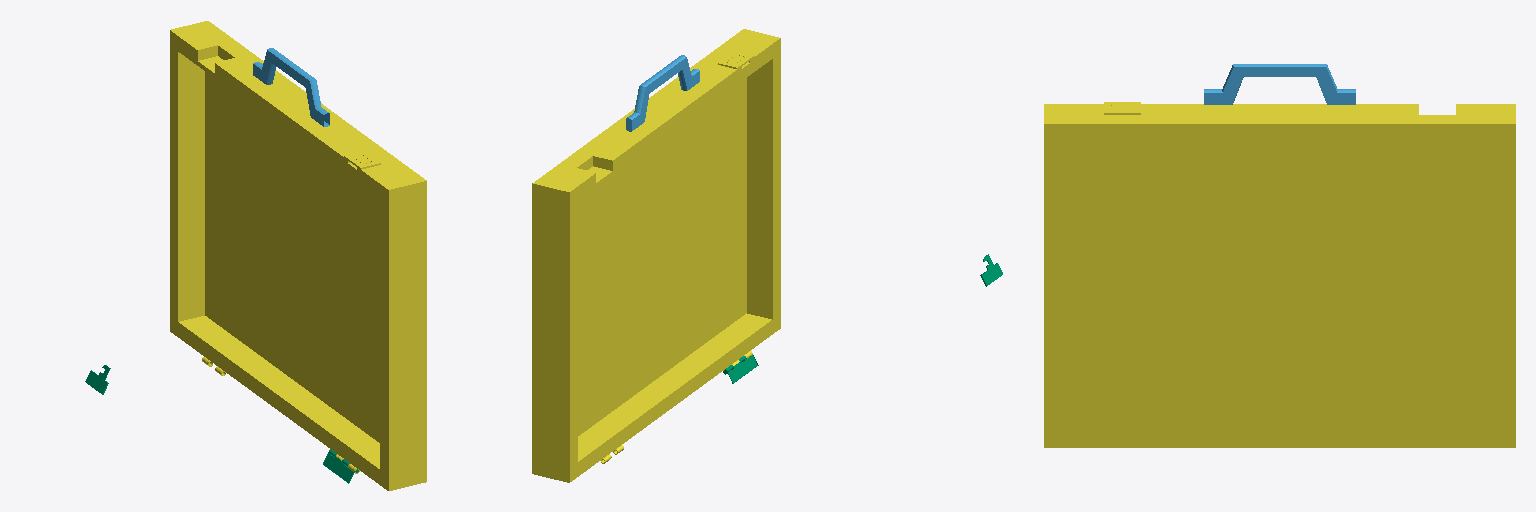
The robot description file, URDF, robot "partnet_6eee2279c193892a8c80080da8fd52c9-0":
<?xml version="1.0" ?>
<robot name="partnet_6eee2279c193892a8c80080da8fd52c9-0">
	<link name="base"/>
	<link name="link_0">
		<visual name="handle-1">
			<origin xyz="-0.0 -0.6825442001423 0.2305115"/>
			<geometry>
				<mesh filename="textured_objs/original-15.obj"/>
			</geometry>
		</visual>
		<collision>
			<origin xyz="-0.0 -0.6825442001423 0.2305115"/>
			<geometry>
				<mesh filename="textured_objs/original-15.obj"/>
			</geometry>
		</collision>
	</link>
	<joint name="joint_0" type="fixed">
		<origin xyz="0.0 0.6825442001423 -0.2305115"/>
		<axis xyz="1.0 -0.0 -0.0"/>
		<child link="link_0"/>
		<parent link="link_2"/>
		<limit lower="-1.5707963267948966" upper="1.5707963267948966"/>
	</joint>
	<link name="link_1">
		<visual name="lid-2">
			<origin xyz="0.5184230000000003 0.3859001428774595 0.19629768005433929"/>
			<geometry>
				<mesh filename="textured_objs/original-2.obj"/>
			</geometry>
		</visual>
		<visual name="lid-2">
			<origin xyz="0.5184230000000003 0.3859001428774595 0.19629768005433929"/>
			<geometry>
				<mesh filename="textured_objs/original-6.obj"/>
			</geometry>
		</visual>
		<visual name="lid-2">
			<origin xyz="0.5184230000000003 0.3859001428774595 0.19629768005433929"/>
			<geometry>
				<mesh filename="textured_objs/original-7.obj"/>
			</geometry>
		</visual>
		<visual name="lid-2">
			<origin xyz="0.5184230000000003 0.3859001428774595 0.19629768005433929"/>
			<geometry>
				<mesh filename="textured_objs/original-4.obj"/>
			</geometry>
		</visual>
		<visual name="lid-2">
			<origin xyz="0.5184230000000003 0.3859001428774595 0.19629768005433929"/>
			<geometry>
				<mesh filename="textured_objs/original-5.obj"/>
			</geometry>
		</visual>
		<collision>
			<origin xyz="0.5184230000000003 0.3859001428774595 0.19629768005433929"/>
			<geometry>
				<mesh filename="textured_objs/original-2.obj"/>
			</geometry>
		</collision>
		<collision>
			<origin xyz="0.5184230000000003 0.3859001428774595 0.19629768005433929"/>
			<geometry>
				<mesh filename="textured_objs/original-6.obj"/>
			</geometry>
		</collision>
		<collision>
			<origin xyz="0.5184230000000003 0.3859001428774595 0.19629768005433929"/>
			<geometry>
				<mesh filename="textured_objs/original-7.obj"/>
			</geometry>
		</collision>
		<collision>
			<origin xyz="0.5184230000000003 0.3859001428774595 0.19629768005433929"/>
			<geometry>
				<mesh filename="textured_objs/original-4.obj"/>
			</geometry>
		</collision>
		<collision>
			<origin xyz="0.5184230000000003 0.3859001428774595 0.19629768005433929"/>
			<geometry>
				<mesh filename="textured_objs/original-5.obj"/>
			</geometry>
		</collision>
	</link>
	<joint name="joint_1" type="revolute">
		<origin xyz="-0.5184230000000003 -0.3859001428774595 -0.19629768005433929"/>
		<axis xyz="1.0 -0.0 -0.0"/>
		<child link="link_1"/>
		<parent link="link_2"/>
		<limit lower="-1.0471975511965976" upper="2.0943951023931953"/>
	</joint>
	<link name="link_2">
		<visual name="base_body-3">
			<origin xyz="0 0 0"/>
			<geometry>
				<mesh filename="textured_objs/original-16.obj"/>
			</geometry>
		</visual>
		<visual name="base_body-3">
			<origin xyz="0 0 0"/>
			<geometry>
				<mesh filename="textured_objs/original-13.obj"/>
			</geometry>
		</visual>
		<visual name="base_body-3">
			<origin xyz="0 0 0"/>
			<geometry>
				<mesh filename="textured_objs/original-11.obj"/>
			</geometry>
		</visual>
		<visual name="base_body-3">
			<origin xyz="0 0 0"/>
			<geometry>
				<mesh filename="textured_objs/original-17.obj"/>
			</geometry>
		</visual>
		<visual name="base_body-3">
			<origin xyz="0 0 0"/>
			<geometry>
				<mesh filename="textured_objs/original-12.obj"/>
			</geometry>
		</visual>
		<visual name="base_body-3">
			<origin xyz="0 0 0"/>
			<geometry>
				<mesh filename="textured_objs/original-10.obj"/>
			</geometry>
		</visual>
		<collision>
			<origin xyz="0 0 0"/>
			<geometry>
				<mesh filename="textured_objs/original-16.obj"/>
			</geometry>
		</collision>
		<collision>
			<origin xyz="0 0 0"/>
			<geometry>
				<mesh filename="textured_objs/original-13.obj"/>
			</geometry>
		</collision>
		<collision>
			<origin xyz="0 0 0"/>
			<geometry>
				<mesh filename="textured_objs/original-11.obj"/>
			</geometry>
		</collision>
		<collision>
			<origin xyz="0 0 0"/>
			<geometry>
				<mesh filename="textured_objs/original-17.obj"/>
			</geometry>
		</collision>
		<collision>
			<origin xyz="0 0 0"/>
			<geometry>
				<mesh filename="textured_objs/original-12.obj"/>
			</geometry>
		</collision>
		<collision>
			<origin xyz="0 0 0"/>
			<geometry>
				<mesh filename="textured_objs/original-10.obj"/>
			</geometry>
		</collision>
	</link>
	<joint name="joint_2" type="fixed">
		<origin rpy="1.570796326794897 0 -1.570796326794897" xyz="0 0 0"/>
		<child link="link_2"/>
		<parent link="base"/>
	</joint>
</robot>

--- Facts derived from the render (not from the file) ---
The picture shows the robot from 3 angles, left to right: view 1: azimuth 30°, elevation 25°; view 2: azimuth 150°, elevation 25°; view 3: azimuth 270°, elevation 25°; orthographic projection.
Model partnet_6eee2279c193892a8c80080da8fd52c9-0 with 4 links and 3 joints (1 revolute, 2 fixed), rooted at base, posed every joint at zero.
Visible links, largest first — view 1: link_2, link_0, link_1; view 2: link_2, link_0, link_1; view 3: link_2, link_0.
Link boxes in pixels (x1,y1,x2,y2): link_2: [170, 21, 426, 490]; link_0: [253, 48, 329, 126]; link_1: [85, 365, 358, 483]; link_2: [532, 29, 780, 482]; link_0: [626, 55, 699, 131]; link_1: [723, 254, 1002, 383]; link_2: [1044, 102, 1515, 447]; link_0: [1204, 64, 1355, 104].
Size in the robot's own frame: 1.07 by 1.37 by 1.23 metres.
7 mesh visuals loaded from 12 distinct referenced files (7 OBJ); not drawn: 5 (reference not matched to a file when rendering).
